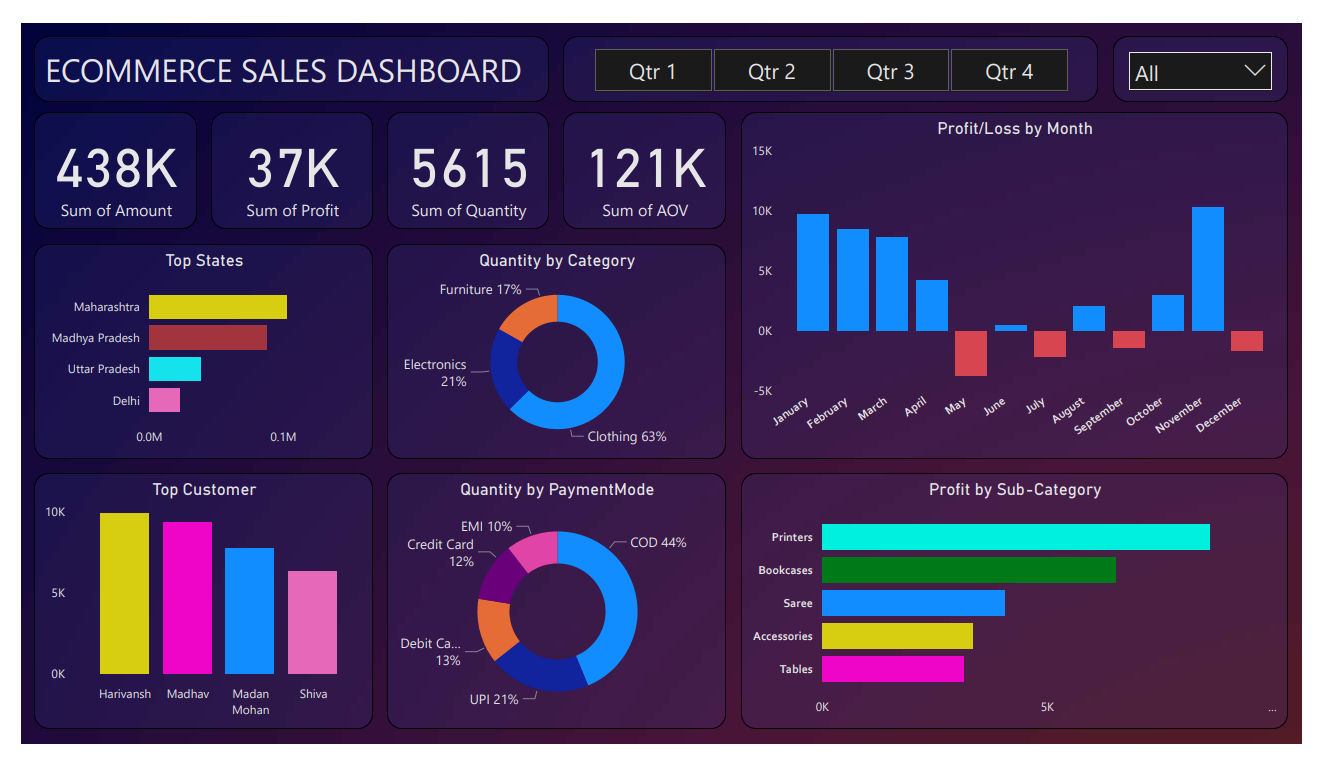

What the dashboard file says about the page in this screenshot:
{"tool":"powerbi","page":{"name":"Page 1","canvas":[1280,720],"ordinal":0},"visuals":[{"type":"columnChart","title":"Profit/Loss by Month","fields":{"Y":["Details.Profit"],"Category":["Orders.Order Date.Variation.Date Hierarchy.Month"]},"box":[719.7,88.9,546.9,347.3],"z":0},{"type":"barChart","title":"Profit by Sub-Category","fields":{"Category":["Details.Sub-Category"],"Y":["Details.Profit"]},"box":[719.7,449.6,546.9,256.7],"z":1000},{"type":"card","fields":{"Values":["Details.Amount"]},"box":[13.4,88.9,162.7,117.4],"z":2000},{"type":"card","fields":{"Values":["Details.Profit"]},"box":[189.6,88.9,162.7,117.4],"z":3000},{"type":"card","fields":{"Values":["Details.Quantity"]},"box":[365.7,88.9,162.7,117.4],"z":4000},{"type":"card","fields":{"Values":["Details.AOV"]},"box":[541.9,88.9,162.7,117.4],"z":5000},{"type":"donutChart","title":"Quantity by Category","fields":{"Y":["Details.Quantity"],"Category":["Details.Category"]},"box":[365.7,221.4,338.9,214.7],"z":6000},{"type":"donutChart","title":"Quantity by PaymentMode","fields":{"Y":["Details.Quantity"],"Category":["Details.PaymentMode"]},"box":[365.7,449.6,338.9,256.7],"z":7000},{"type":"barChart","title":"Top States","fields":{"Category":["Orders.State"],"Y":["Details.Amount"]},"box":[13.4,221.4,338.9,214.7],"z":8000},{"type":"lineStackedColumnComboChart","title":"Top Customer","fields":{"Category":["Orders.CustomerName"],"Y":["Details.Amount"]},"box":[13.4,449.6,338.9,256.7],"z":9000},{"type":"textbox","box":[13.4,13.4,515,66],"z":10000},{"type":"slicer","fields":{"Values":["Orders.Order Date.Variation.Date Hierarchy.Quarter"]},"box":[541.9,13.4,535.2,65.4],"z":11000},{"type":"slicer","fields":{"Values":["Orders.State"]},"box":[1092.1,13.4,174.5,65.4],"z":12000}]}

Visuals, with their boxes in screenshot pixels (x1, y1, x2, y2), scaled from the page's 1280x720 canvas onto the 1324x764 screenshot:
"Profit/Loss by Month" columnChart: region(744, 94, 1310, 463)
"Profit by Sub-Category" barChart: region(744, 477, 1310, 749)
card - Details.Amount: region(14, 94, 182, 219)
card - Details.Profit: region(196, 94, 364, 219)
card - Details.Quantity: region(378, 94, 547, 219)
card - Details.AOV: region(561, 94, 729, 219)
"Quantity by Category" donutChart: region(378, 235, 729, 463)
"Quantity by PaymentMode" donutChart: region(378, 477, 729, 749)
"Top States" barChart: region(14, 235, 364, 463)
"Top Customer" lineStackedColumnComboChart: region(14, 477, 364, 749)
textbox: region(14, 14, 547, 84)
slicer - Orders.Order Date.Variation.Date Hierarchy.Quarter: region(561, 14, 1114, 84)
slicer - Orders.State: region(1130, 14, 1310, 84)
